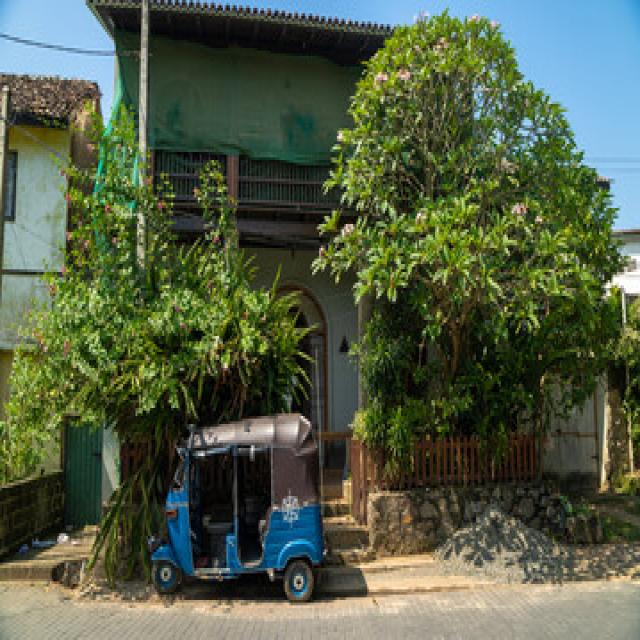three wheeler: (152, 413, 323, 603)
